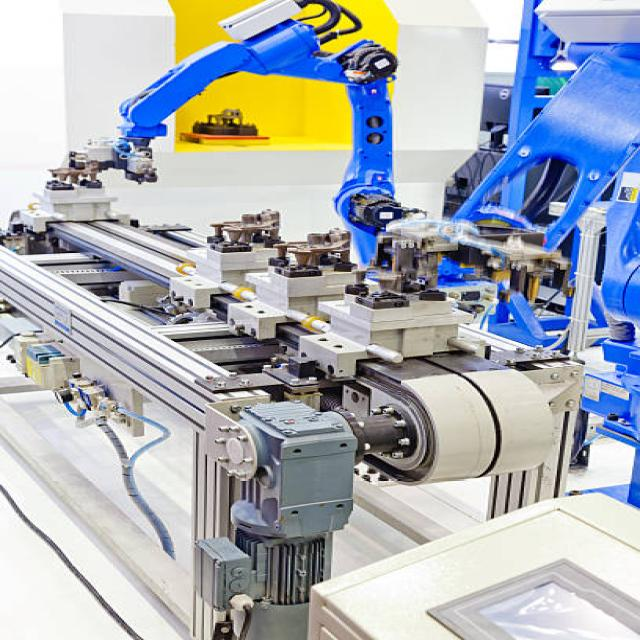Robotic-arm: (92, 0, 440, 269)
